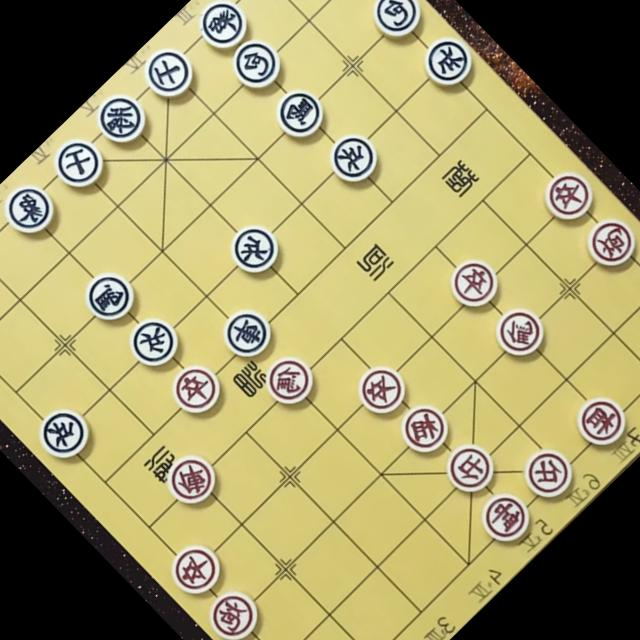black-advisor: (133, 39, 202, 108), (42, 130, 109, 197)
black-cannon: (223, 32, 291, 100), (362, 0, 432, 48)
black-chariot: (216, 301, 280, 365)
black-elephant: (0, 176, 62, 242), (189, 0, 258, 58)
black-general: (86, 82, 160, 156)
black-horse: (75, 261, 144, 330), (270, 82, 332, 144)
black-soldier: (28, 395, 100, 469), (120, 306, 190, 377), (220, 214, 287, 282), (414, 29, 480, 95), (321, 126, 385, 190)
red-advisor: (520, 442, 581, 503), (440, 438, 500, 498)
red-cannon: (581, 212, 640, 275), (204, 586, 265, 640)
red-chariot: (159, 448, 225, 514)
red-elephant: (570, 389, 632, 452), (396, 398, 458, 459)
red-general: (476, 488, 535, 547)
red-horse: (261, 349, 322, 411), (489, 302, 550, 363)
red-soldier: (162, 356, 231, 424), (349, 356, 417, 424), (160, 536, 228, 604), (442, 251, 508, 316), (538, 164, 602, 228)
